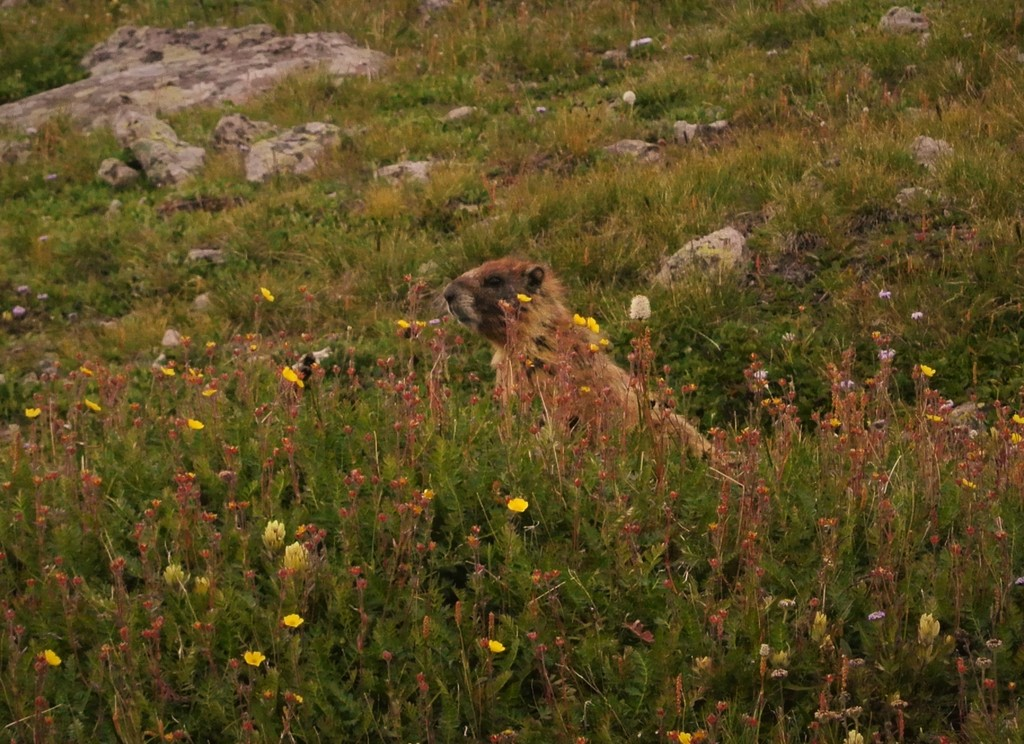Animal: (413, 262, 723, 449)
